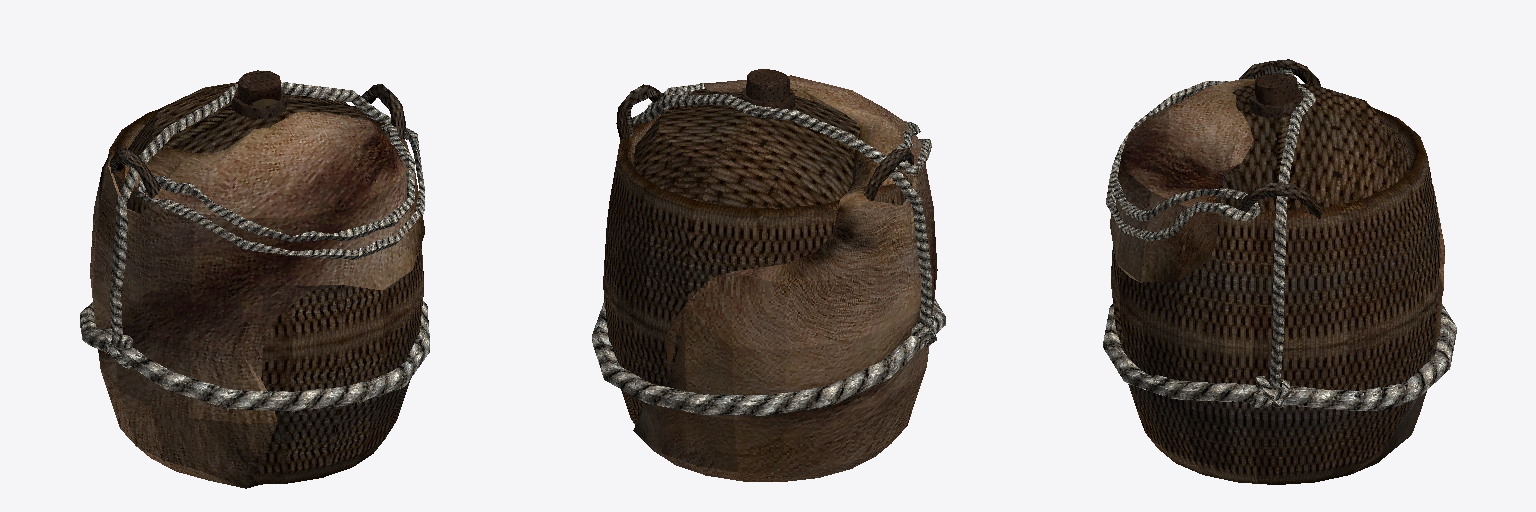
The picture shows the model from 3 angles: view 1: azimuth 30°, elevation 25°; view 2: azimuth 150°, elevation 25°; view 3: azimuth 270°, elevation 25°; orthographic projection.
Parts seen in each view (by area): view 1: fish_basket_2; view 2: fish_basket_2; view 3: fish_basket_2.
Boxes of the visible parts, box(x1,y1,x2,y2) form: fish_basket_2: box(80, 70, 429, 488); fish_basket_2: box(592, 69, 945, 481); fish_basket_2: box(1103, 59, 1456, 484).
Bounding box in the file's own units: 23.98 × 25.99 × 23.38.
Materials: 3 (3 with a texture image).